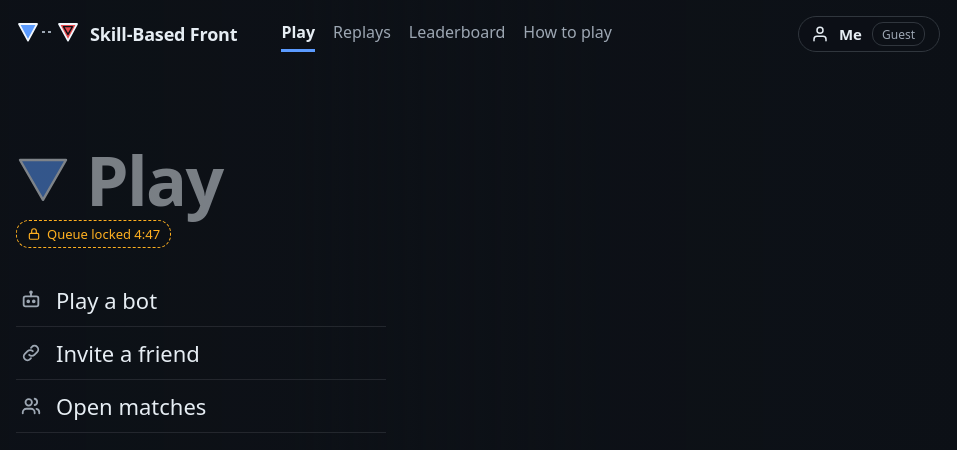
Test case: MenuScreen › a queue ban (DEC-34) › dims Play with a lock chip of the time left, keeps the other modes open and counts down
Expected: the button "Play" is disabled, [16, 146, 446, 214]
Click the button "Play a bot" at (107, 300), box [16, 274, 386, 327]
Wait 1000 ms
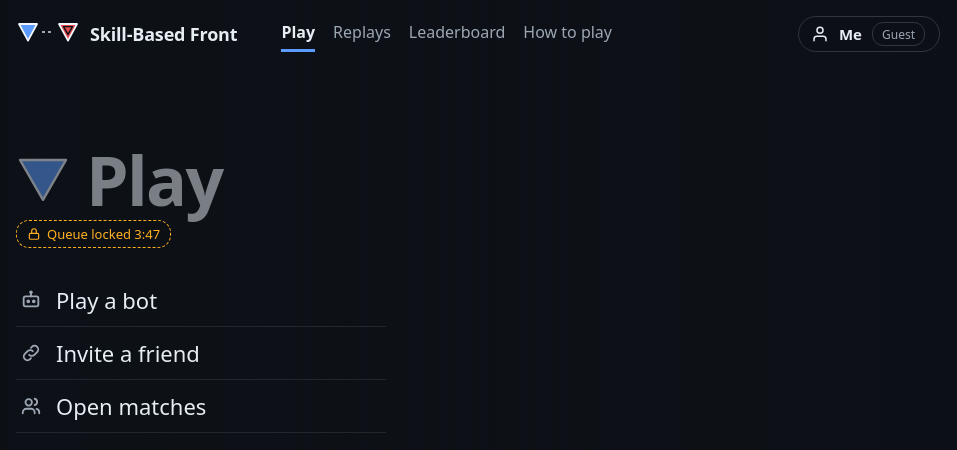
Now the text "3:47" is shown, box [47, 225, 160, 243]
